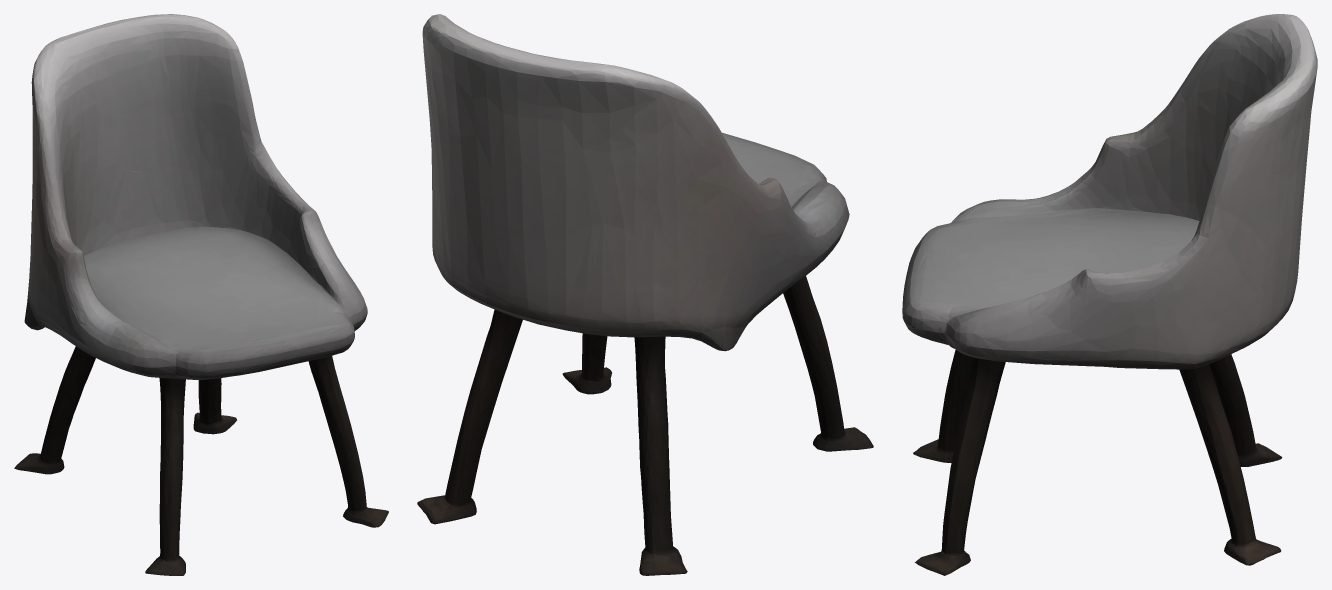
3 views of the same model, side by side, from view 1: azimuth 30°, elevation 25°; view 2: azimuth 150°, elevation 25°; view 3: azimuth 270°, elevation 25° (orthographic). The views are drawn at different scales.
Visible parts, largest first — view 1: geometry_0; view 2: geometry_0; view 3: geometry_0.
Boxes of the visible parts, x1,y1,x2,y2 form: geometry_0: (14, 14, 388, 575); geometry_0: (417, 14, 873, 575); geometry_0: (902, 14, 1317, 575).
Bounding box in the file's own units: 0.6745 × 0.999 × 0.8201.
Materials: 1 (1 with a texture image).
